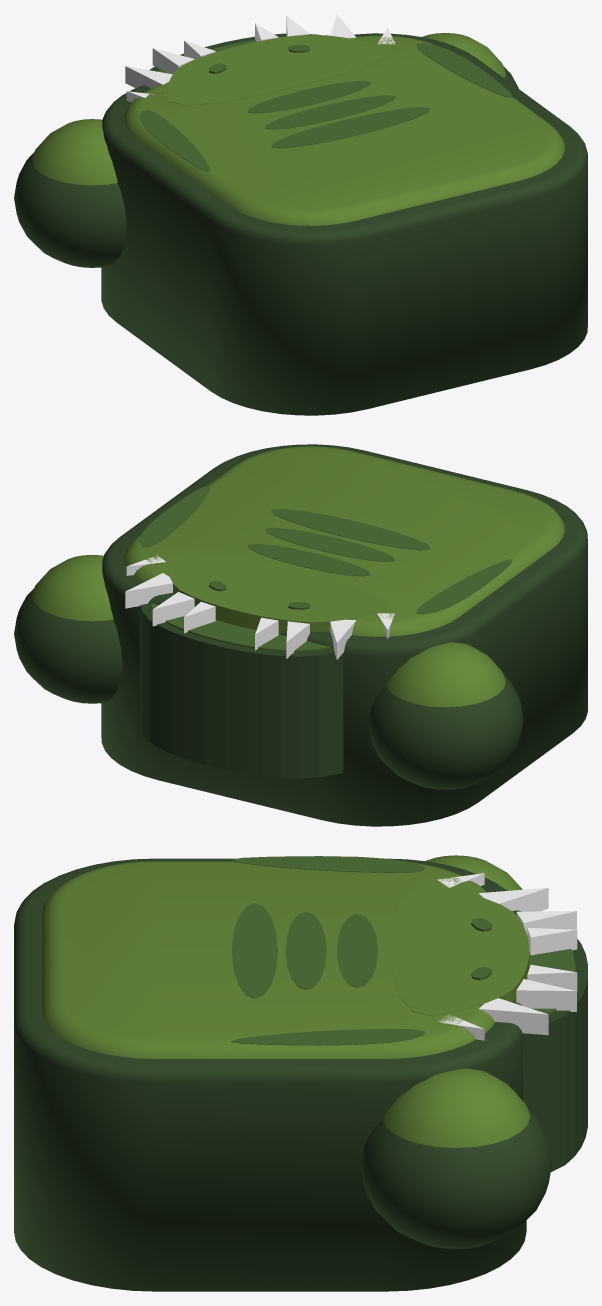
The model's file is body_crocodilo.fbx.
3 views of the same model, one above another, from view 1: azimuth 30°, elevation 25°; view 2: azimuth 150°, elevation 25°; view 3: azimuth 270°, elevation 25° (orthographic). The views are drawn at different scales.
Parts seen in each view (by area): view 1: body_crocodilo_corpo, body_crocodilo_mao_esq, body_crocodilo_mao; view 2: body_crocodilo_corpo, body_crocodilo_mao_esq, body_crocodilo_mao; view 3: body_crocodilo_corpo, body_crocodilo_mao, body_crocodilo_mao_esq.
Part boxes in pixels (x1=…): body_crocodilo_corpo: x1=101, y1=15, x2=587, y2=415; body_crocodilo_mao_esq: x1=14, y1=119, x2=126, y2=267; body_crocodilo_mao: x1=422, y1=33, x2=518, y2=88; body_crocodilo_corpo: x1=101, y1=444, x2=587, y2=826; body_crocodilo_mao_esq: x1=368, y1=642, x2=523, y2=789; body_crocodilo_mao: x1=14, y1=554, x2=122, y2=703; body_crocodilo_corpo: x1=14, y1=856, x2=587, y2=1291; body_crocodilo_mao: x1=361, y1=1068, x2=551, y2=1248; body_crocodilo_mao_esq: x1=425, y1=855, x2=522, y2=890.
Bounding box in the file's own units: 5.4 × 2.03 × 4.48.
Materials: 1 (1 with a texture image).
